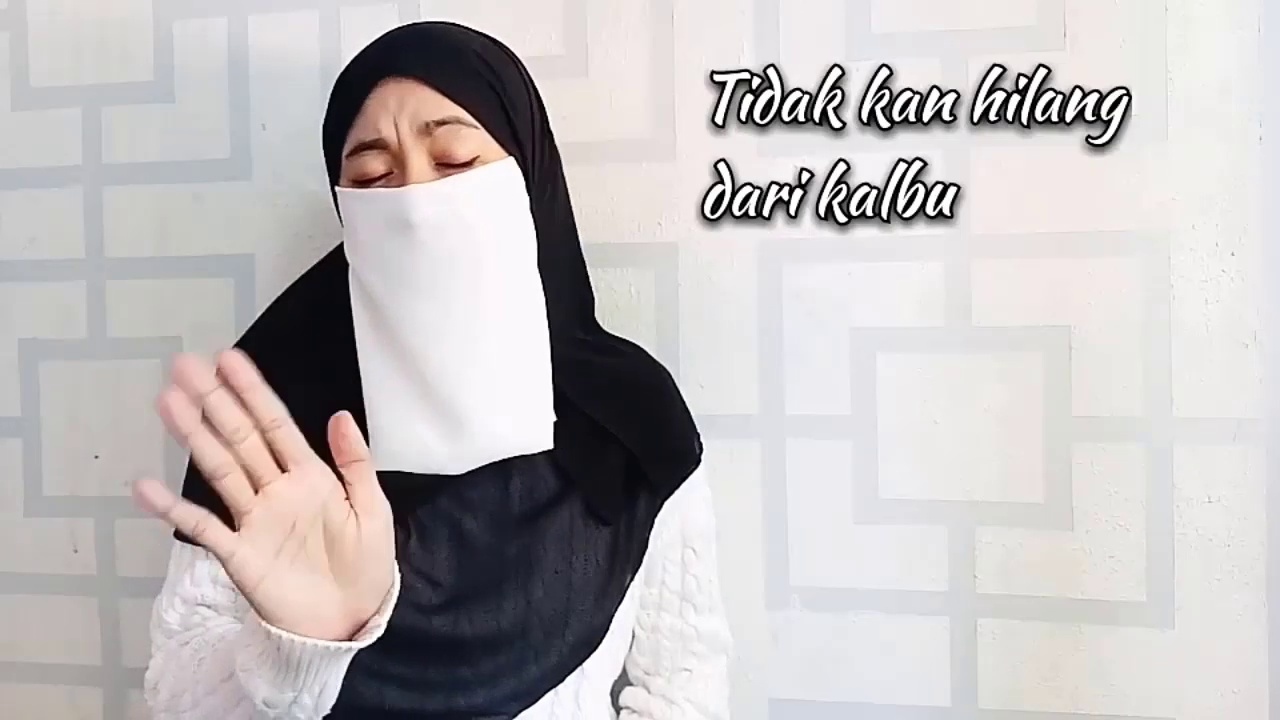TIDAK: (58, 295, 474, 663)
